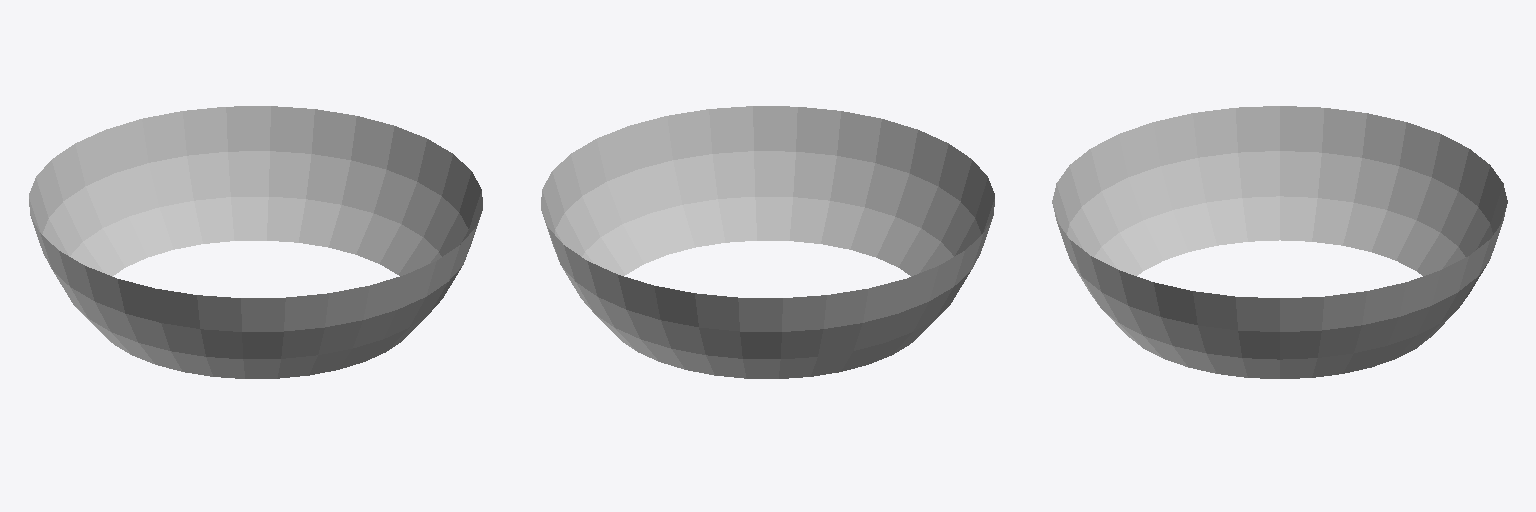
Rendered from new-flat.obj.
3 views of the same model, side by side, from view 1: azimuth 30°, elevation 25°; view 2: azimuth 150°, elevation 25°; view 3: azimuth 270°, elevation 25° (orthographic).
Visible parts, largest first — view 1: Sphere; view 2: Sphere; view 3: Sphere.
Part boxes in pixels (bbox=[...]): Sphere: bbox=[29, 106, 482, 378]; Sphere: bbox=[541, 106, 994, 378]; Sphere: bbox=[1052, 106, 1507, 378].
Bounding box in the file's own units: 1.96 × 0.512 × 1.96.